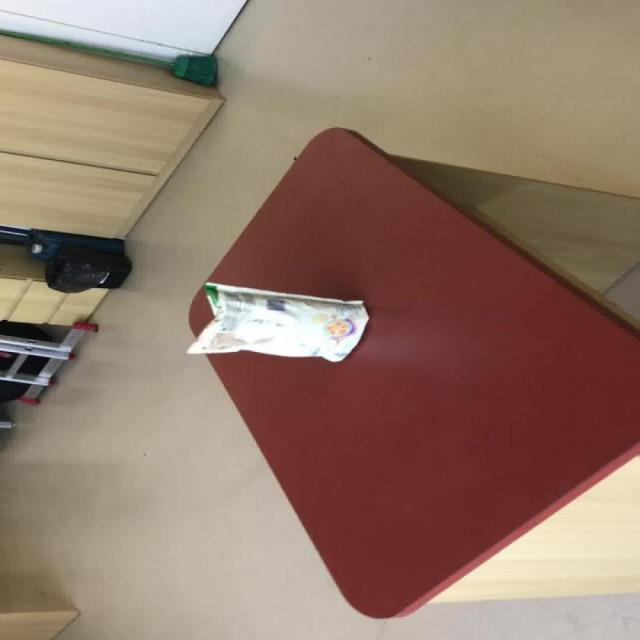CornFlakes: (185, 280, 370, 362)
